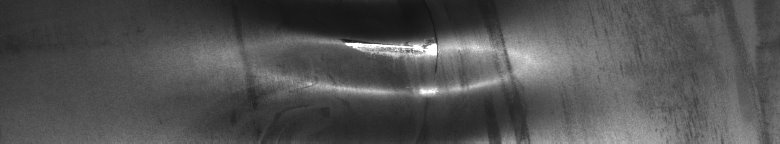ke: (292, 32, 512, 104)
